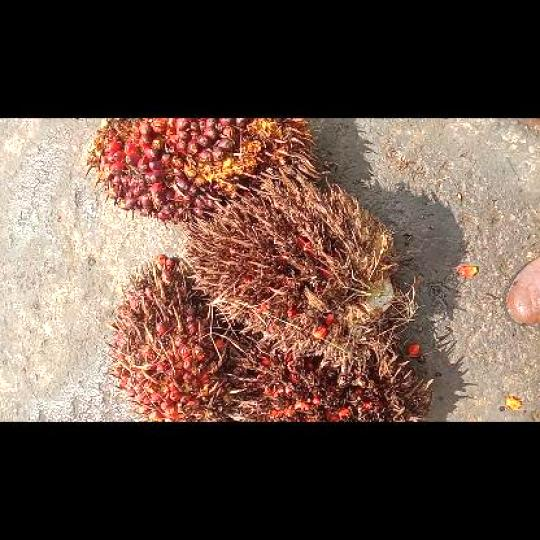masak: (84, 118, 318, 232), (100, 258, 230, 420)
terlalu masak: (178, 169, 414, 371), (221, 328, 433, 420)
